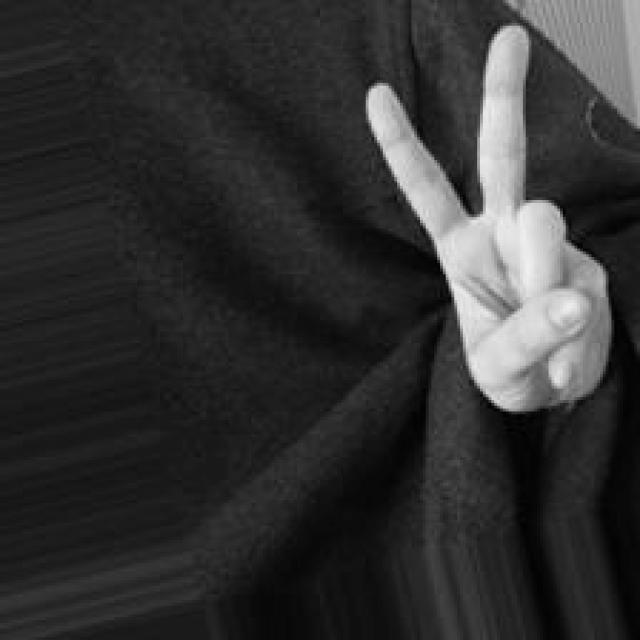V: (360, 19, 612, 415)
